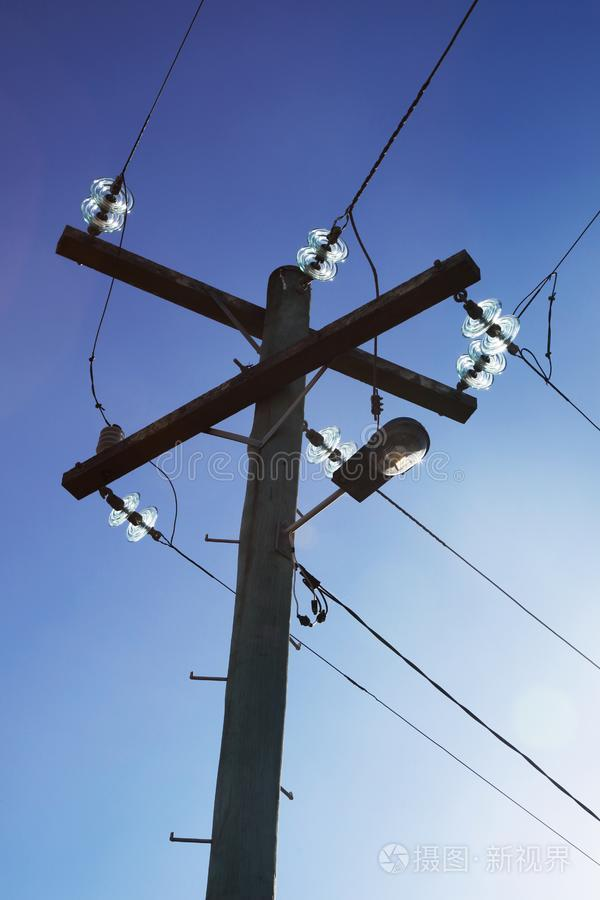insulator: (74, 178, 135, 233), (464, 296, 520, 353), (106, 492, 164, 542), (294, 229, 348, 280), (452, 343, 508, 391), (302, 425, 356, 471)
